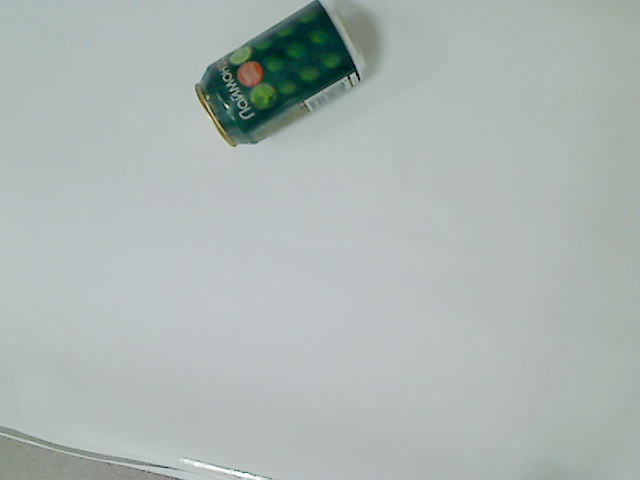can: (192, 1, 374, 148)
